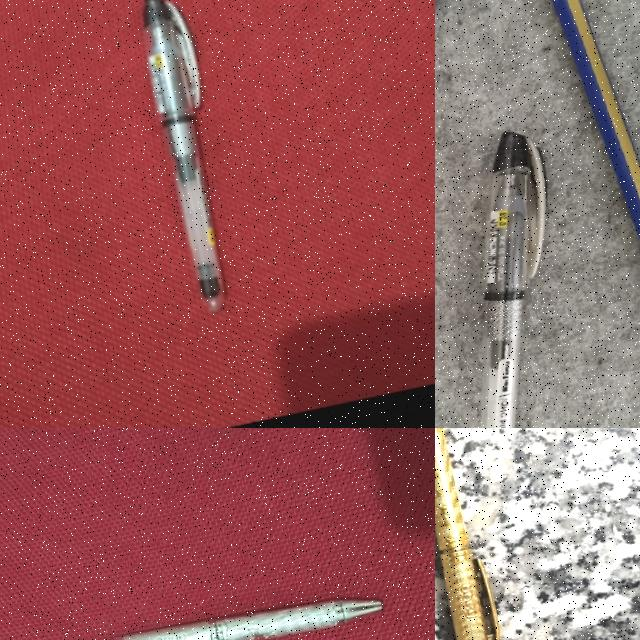pen: (435, 127, 613, 428), (141, 0, 224, 314)
pencil: (541, 0, 640, 421)
signature pen: (435, 428, 498, 639), (111, 600, 381, 640)
